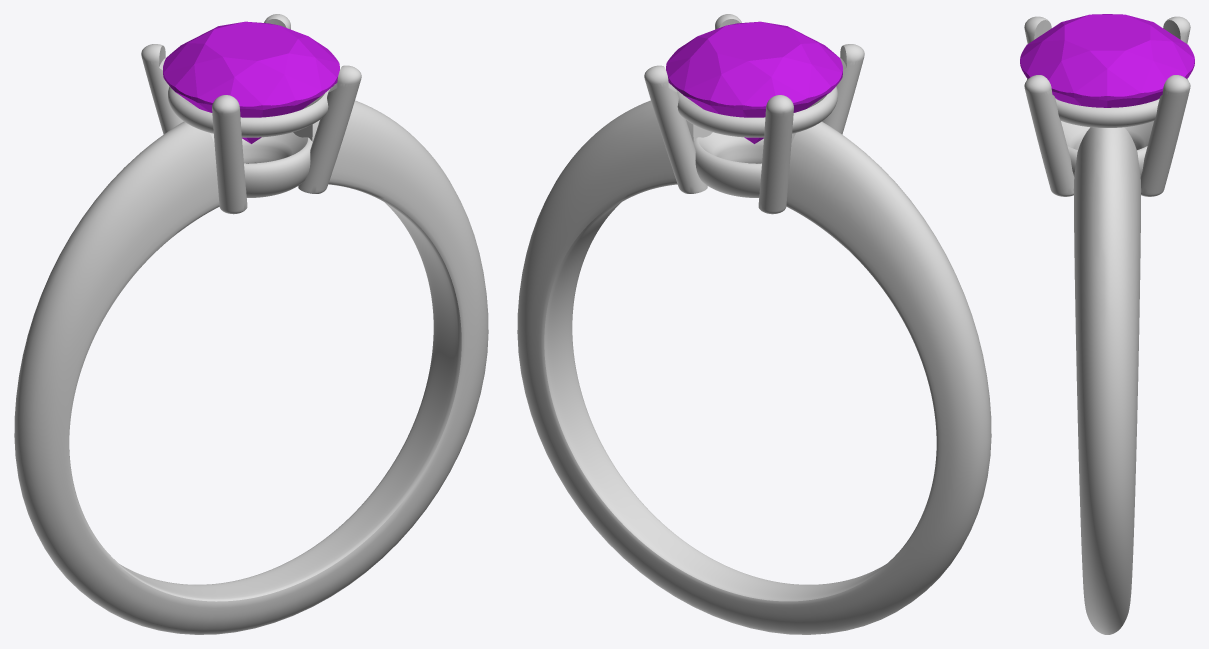
File: GaleGPT_blender.glb
3 renders of one model, left to right at view 1: azimuth 30°, elevation 25°; view 2: azimuth 150°, elevation 25°; view 3: azimuth 270°, elevation 25°, orthographic.
Visible parts, largest first — view 1: Gale PT for 3d model, Gale amethyst for 3d model; view 2: Gale PT for 3d model, Gale amethyst for 3d model; view 3: Gale PT for 3d model, Gale amethyst for 3d model.
Boxes of the visible parts, bbox=[...] form: Gale PT for 3d model: bbox=[14, 14, 488, 634]; Gale amethyst for 3d model: bbox=[163, 21, 339, 143]; Gale PT for 3d model: bbox=[517, 14, 991, 634]; Gale amethyst for 3d model: bbox=[666, 21, 842, 143]; Gale PT for 3d model: bbox=[1024, 16, 1190, 634]; Gale amethyst for 3d model: bbox=[1020, 14, 1194, 107].
Bounding box in the file's own units: 21.33 × 25.53 × 7.
